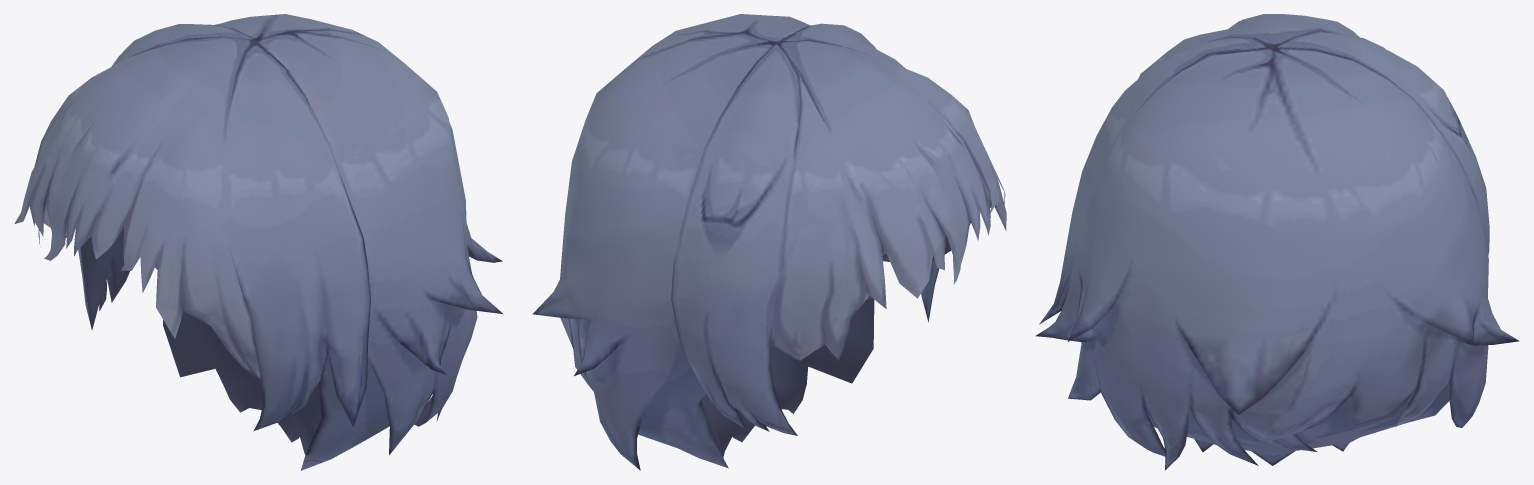
File: hair_short_blue.gltf
3 renders of one model, left to right at view 1: azimuth 30°, elevation 25°; view 2: azimuth 150°, elevation 25°; view 3: azimuth 270°, elevation 25°, orthographic. The views are drawn at different scales.
Visible parts, largest first — view 1: Shorterw; view 2: Shorterw; view 3: Shorterw.
Boxes of the visible parts, x1,y1,x2,y2 form: Shorterw: [14, 14, 502, 470]; Shorterw: [532, 14, 1006, 470]; Shorterw: [1035, 14, 1519, 470].
Bounding box in the file's own units: 0.7547 × 0.7034 × 0.7602.
Materials: 1 (1 with a texture image).
